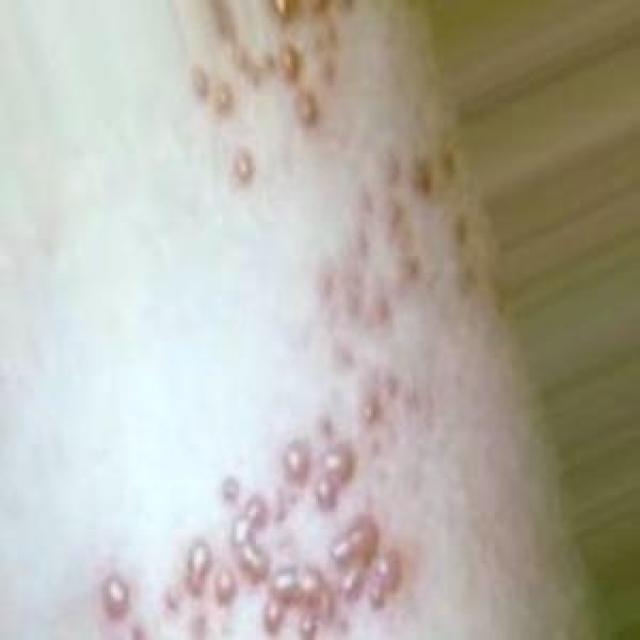Shingles: (97, 437, 406, 640), (300, 133, 483, 455), (190, 0, 357, 190)
